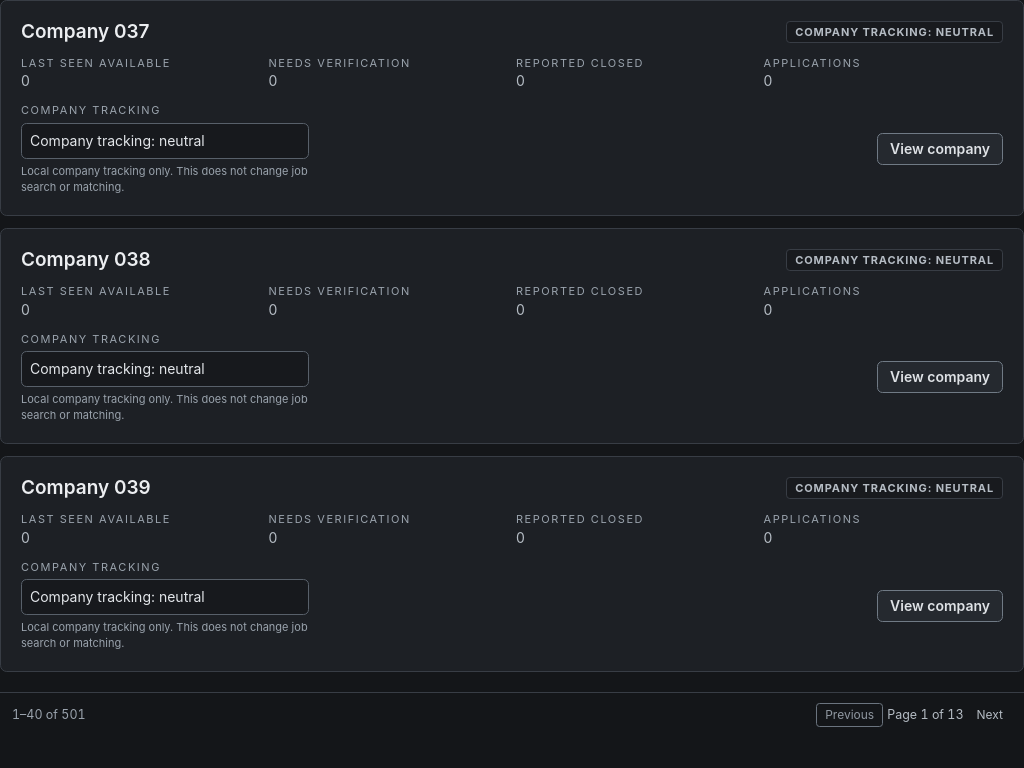
Test: CompaniesScreen › mounts one page at a time for a 500-plus company catalog
(page scrolled)
Check: the text "1–40 of 501" is shown, box [12,706,86,724]
Check: the text "Page 1 of 13" is shown, box [887,706,964,724]
Click the button with aria-label "Next page" at (990, 715), box [968,703,1012,727]
(page scrolled)
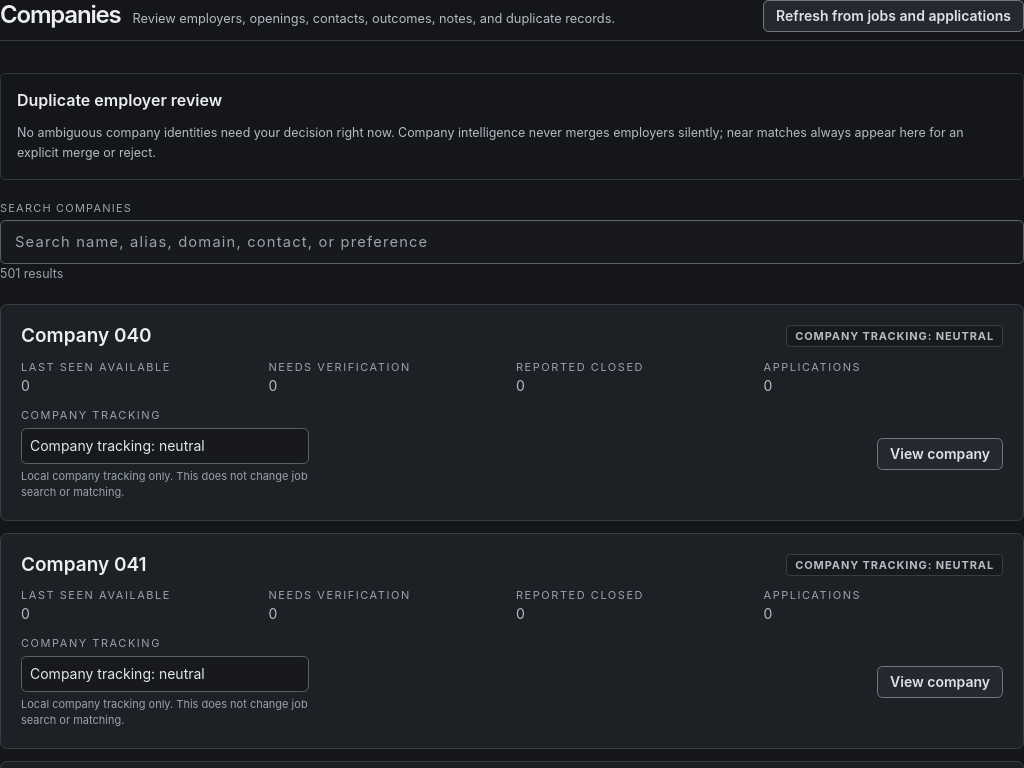
Check: the heading "Company 040" is shown, box [21,325,152,348]
